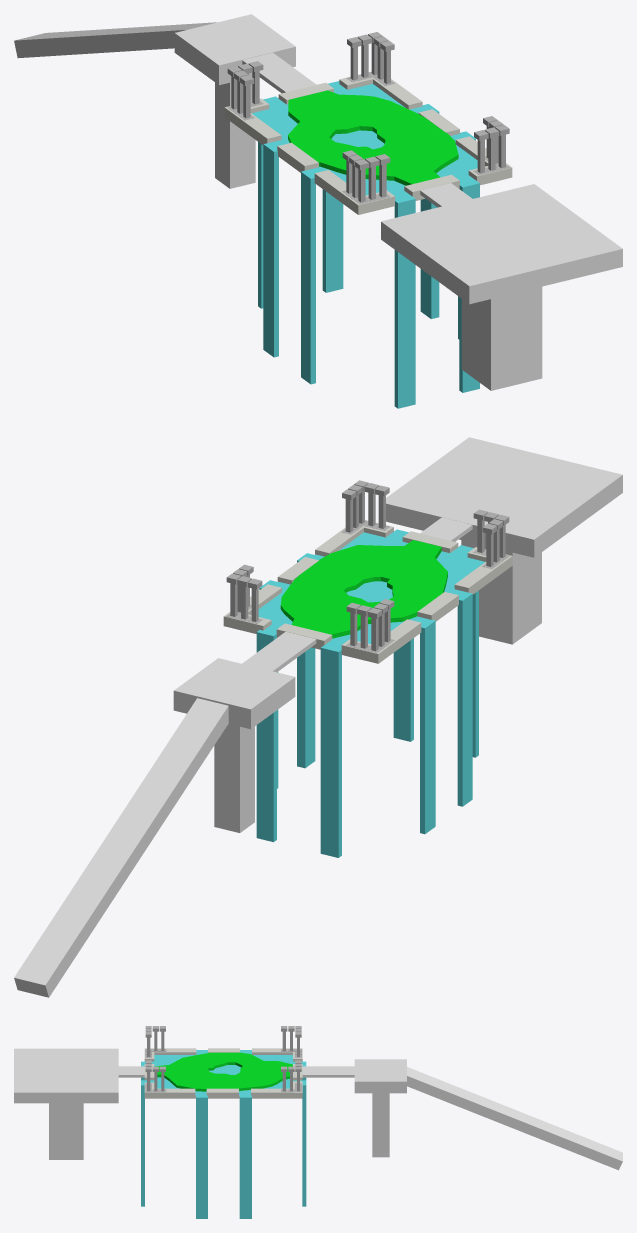
The model's file is GARDEN.fbx.
3 views of the same model, one above another, from view 1: azimuth 30°, elevation 25°; view 2: azimuth 150°, elevation 25°; view 3: azimuth 270°, elevation 25° (orthographic). The views are drawn at different scales.
Visible parts, largest first — view 1: Cube.002, Cube.006; view 2: Cube.002, Cube.006; view 3: Cube.002, Cube.006.
Part boxes in pixels (<box>): Cube.002: <box>14,14,622,390</box>; Cube.006: <box>252,81,479,408</box>; Cube.002: <box>14,437,622,997</box>; Cube.006: <box>256,529,484,857</box>; Cube.002: <box>14,1026,622,1170</box>; Cube.006: <box>141,1050,306,1218</box>.
Bounding box in the file's own units: 430 × 619 × 2323.
